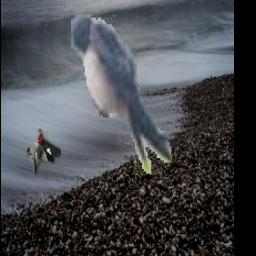Swallow: (72, 14, 173, 175)
Woodpecker: (26, 129, 61, 175)
